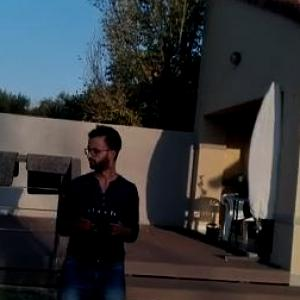follow: (46, 118, 140, 299)
